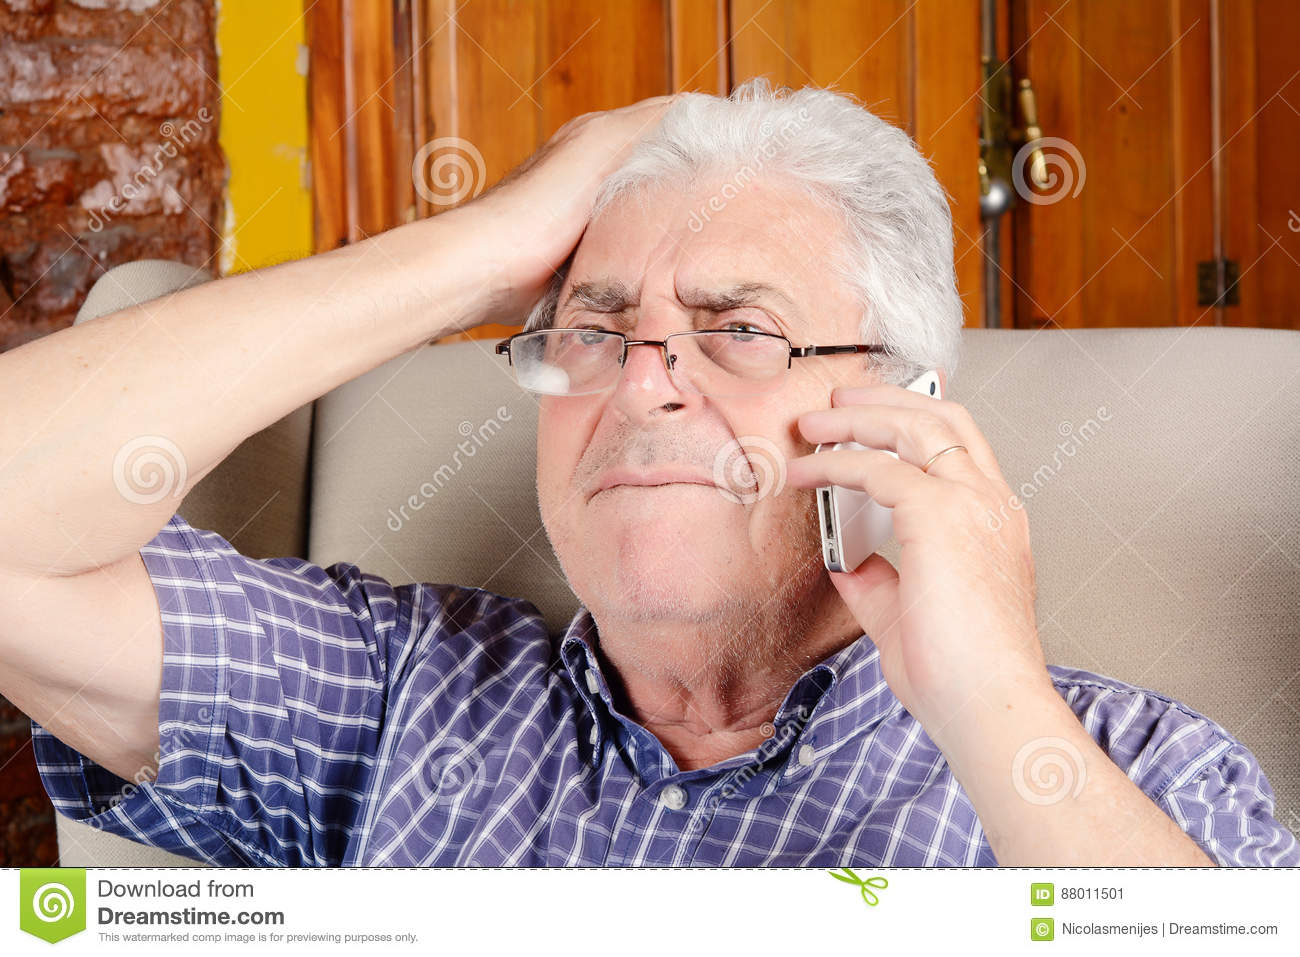phone: (811, 369, 953, 576)
talk: (540, 273, 1051, 729)
